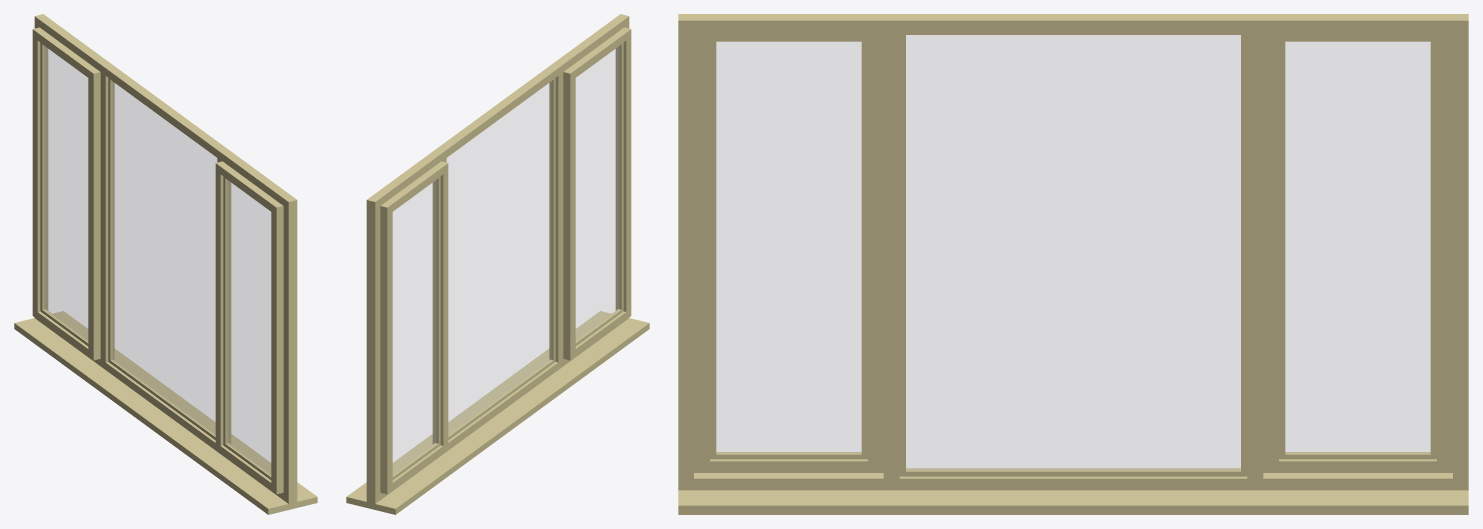
Rendered from window.fbx.
3 views of the same model, side by side, from view 1: azimuth 30°, elevation 25°; view 2: azimuth 150°, elevation 25°; view 3: azimuth 270°, elevation 25° (orthographic). The views are drawn at different scales.
Parts seen in each view (by area): view 1: RoomWindow.002; view 2: RoomWindow.002; view 3: RoomWindow.002.
Boxes of the visible parts, bbox=[...] form: RoomWindow.002: bbox=[14, 14, 317, 514]; RoomWindow.002: bbox=[346, 14, 649, 514]; RoomWindow.002: bbox=[678, 14, 1468, 514].
Size of the model in its own units: 28 by 167 by 250.
